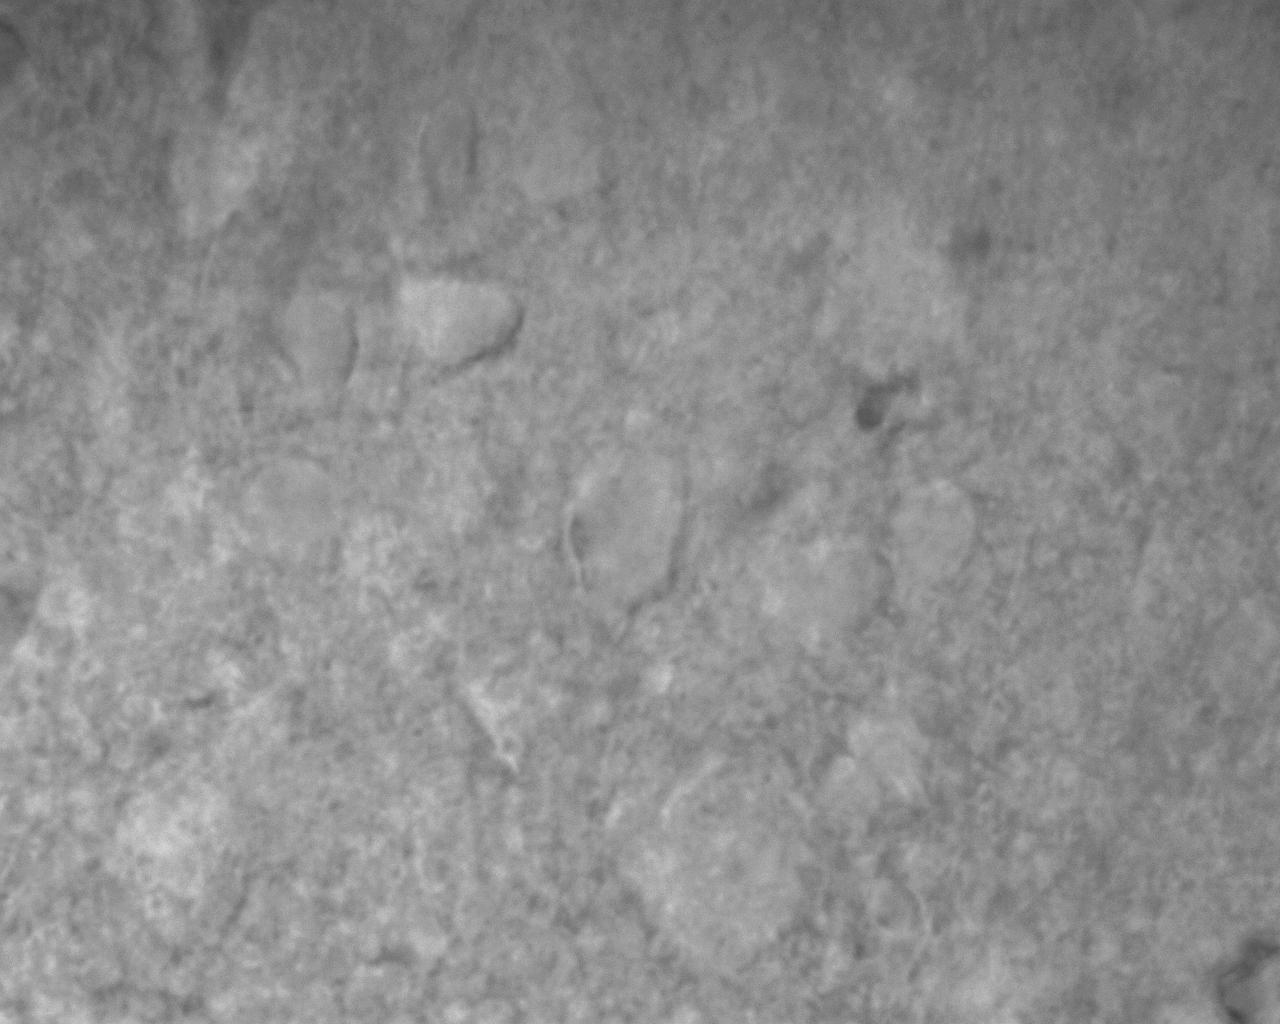neuron: (551, 428, 712, 629), (751, 531, 902, 666), (382, 266, 531, 385), (884, 465, 990, 592)
